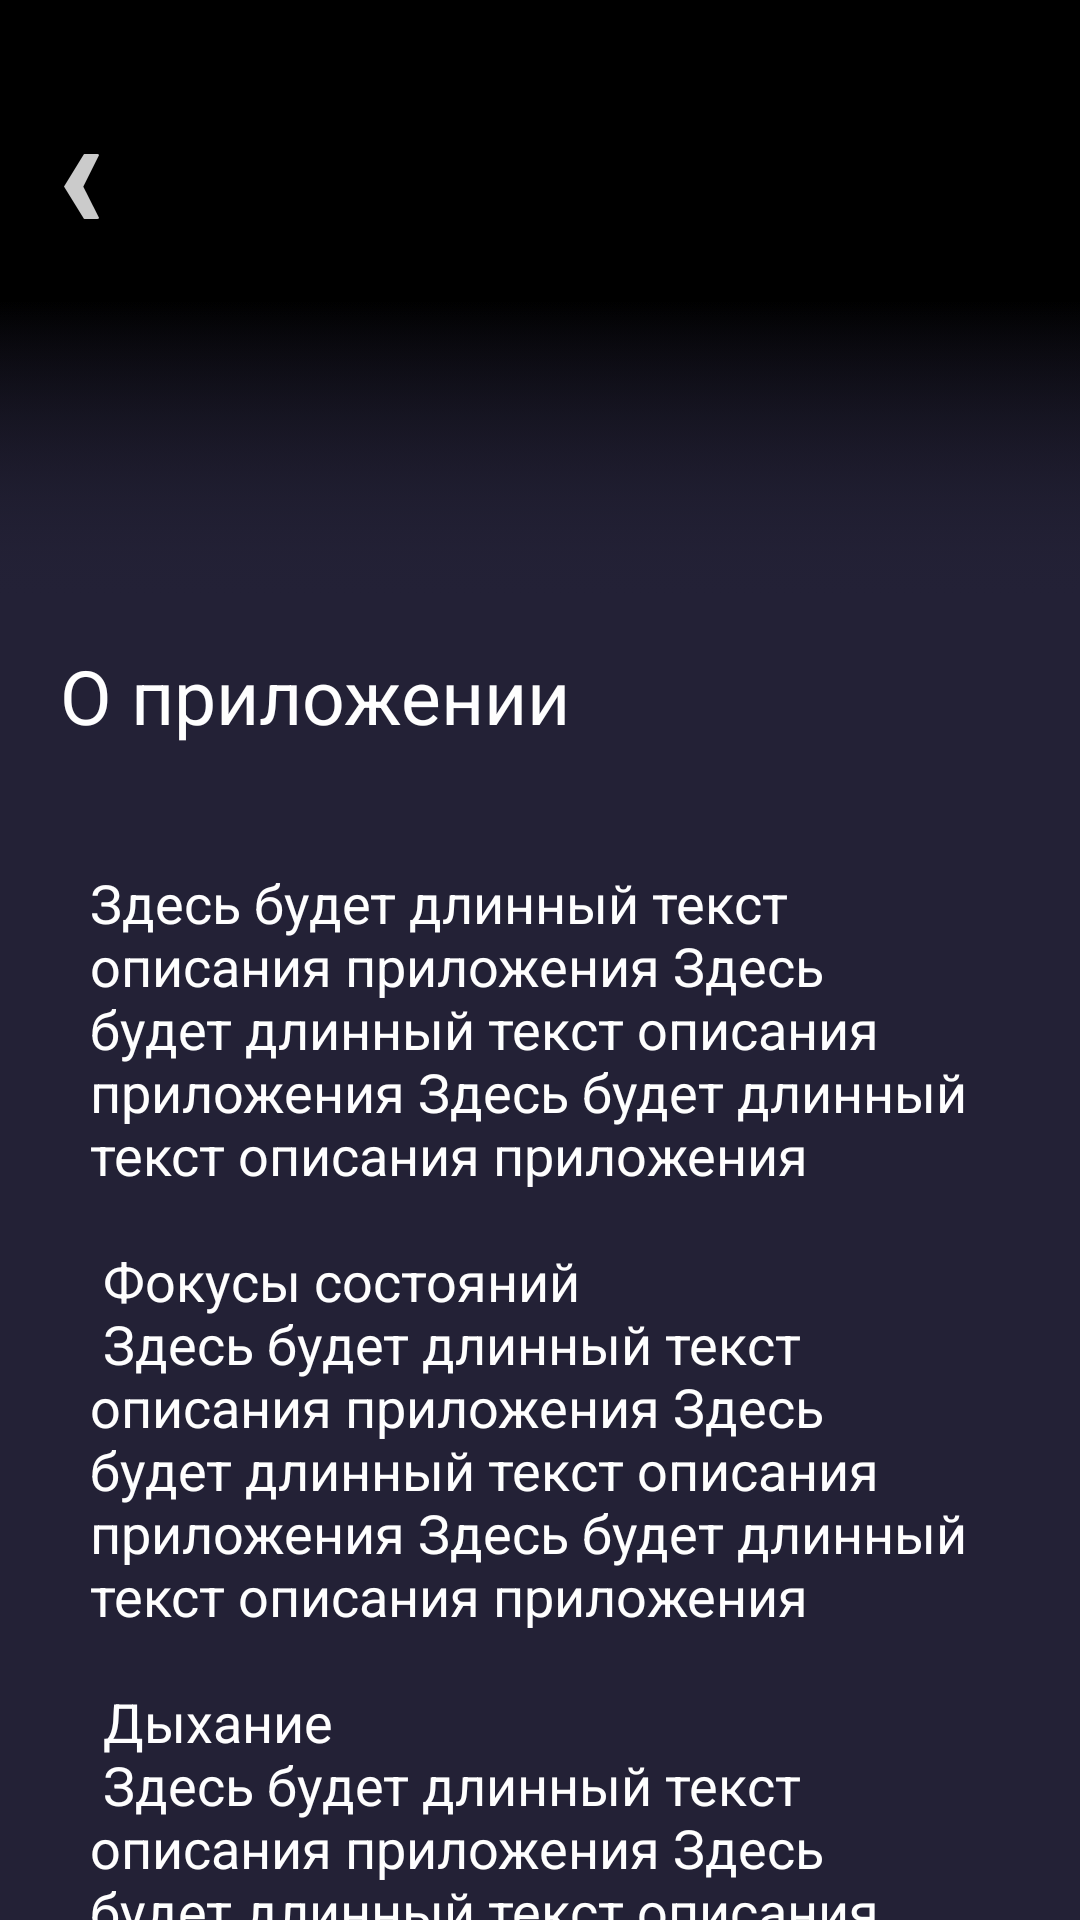

Icons on this 1080x1920 Android screen, each with its box as (x1, y1, x2, y2):
back: (64, 154, 99, 219)
